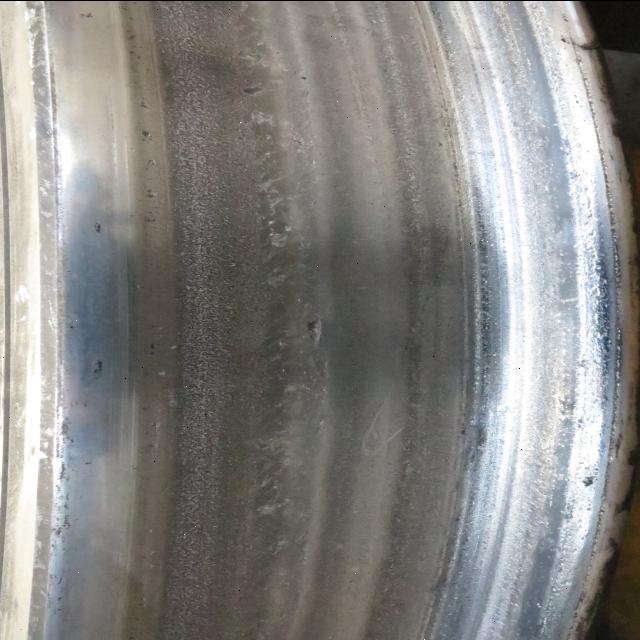boli: (296, 315, 331, 346)
